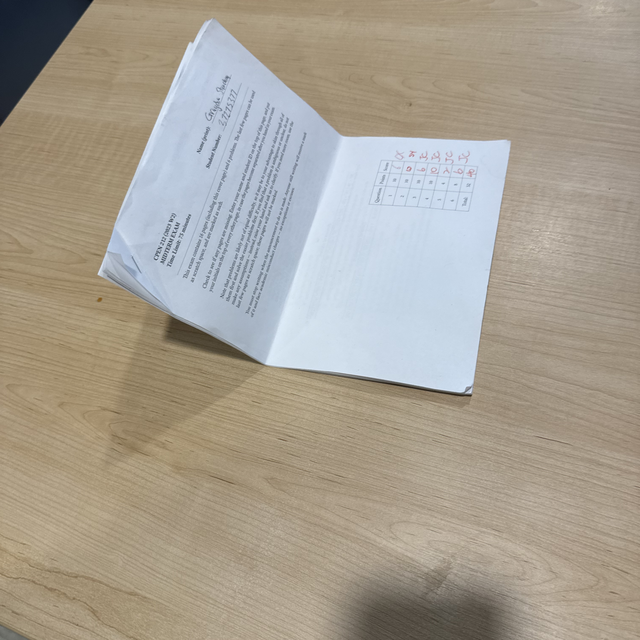Paper: (117, 13, 538, 414)
